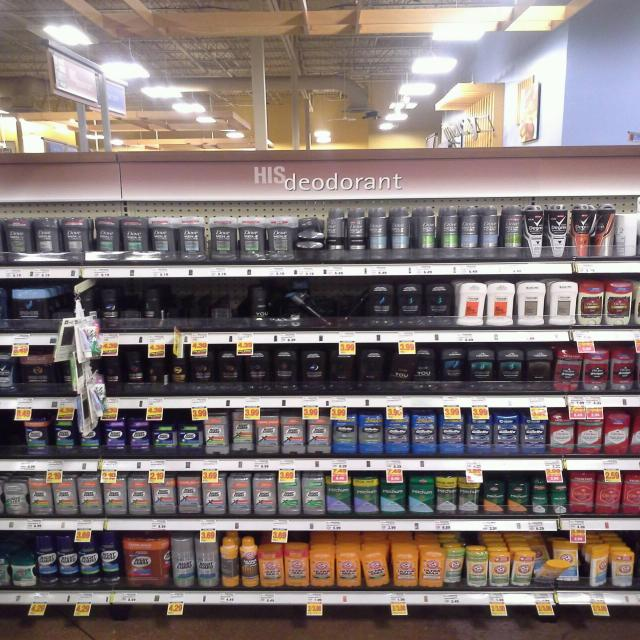empty: (170, 280, 207, 327), (335, 282, 367, 327)
